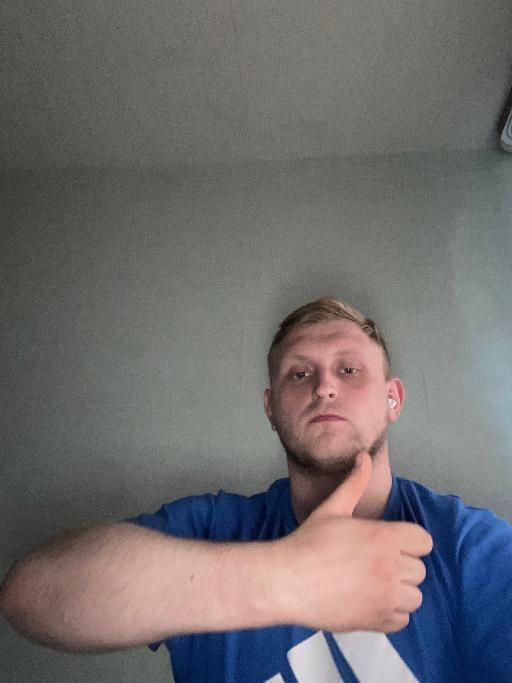like: (283, 444, 434, 636)
